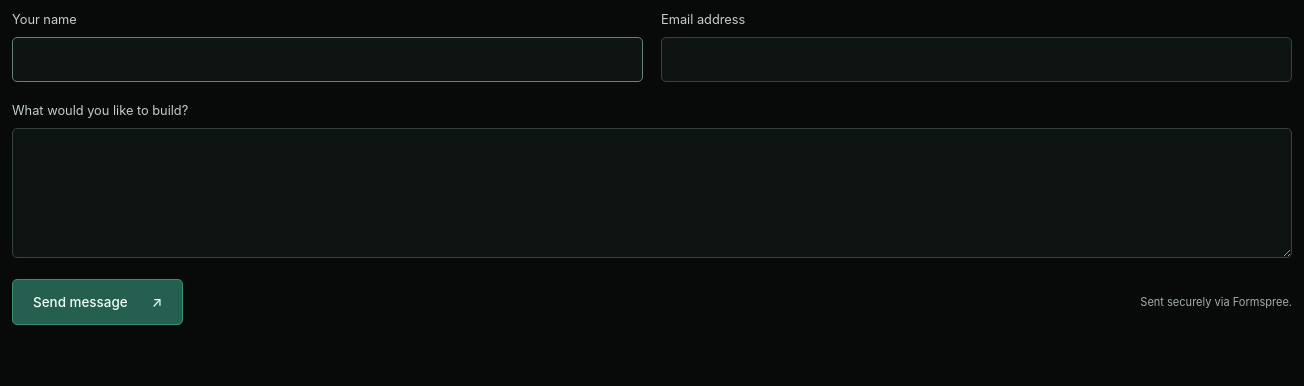
Test: Contact form — all requests mocked › preserves text and offers a direct-email fallback on network failure
Step 1. Type "Test Visitor" into the field labelled "Your name" → (328, 60), box x1=12 y1=37 x2=643 y2=82
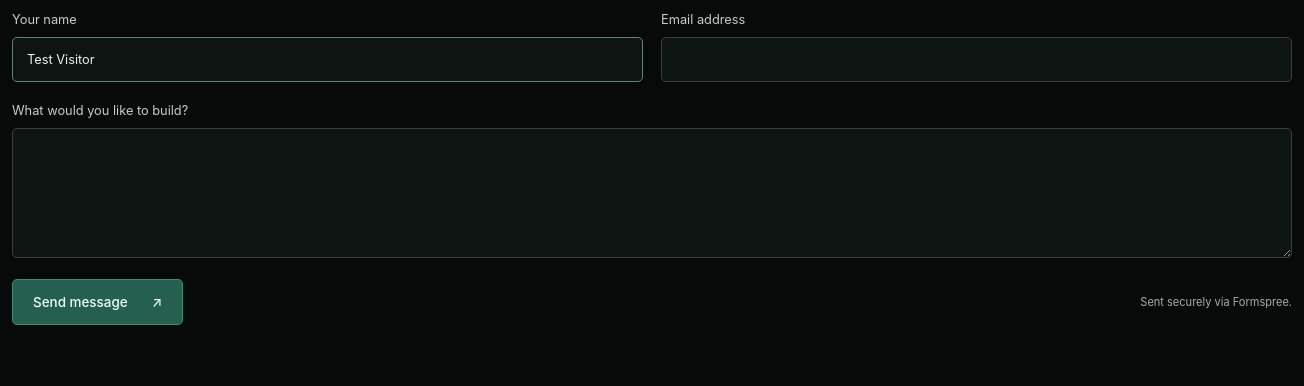
Step 2. Type "visitor@example.com" into the field labelled "Email address" → (976, 60), box x1=661 y1=37 x2=1292 y2=82
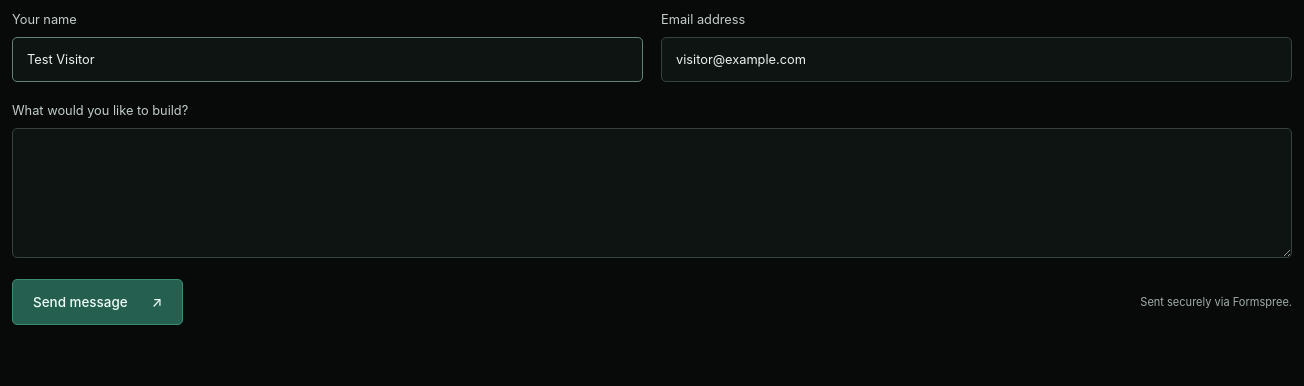
Step 3. Type "A sample enquiry for a mocked test only." into the text box labelled "What would you like to build?" → (652, 193), box x1=12 y1=128 x2=1292 y2=258
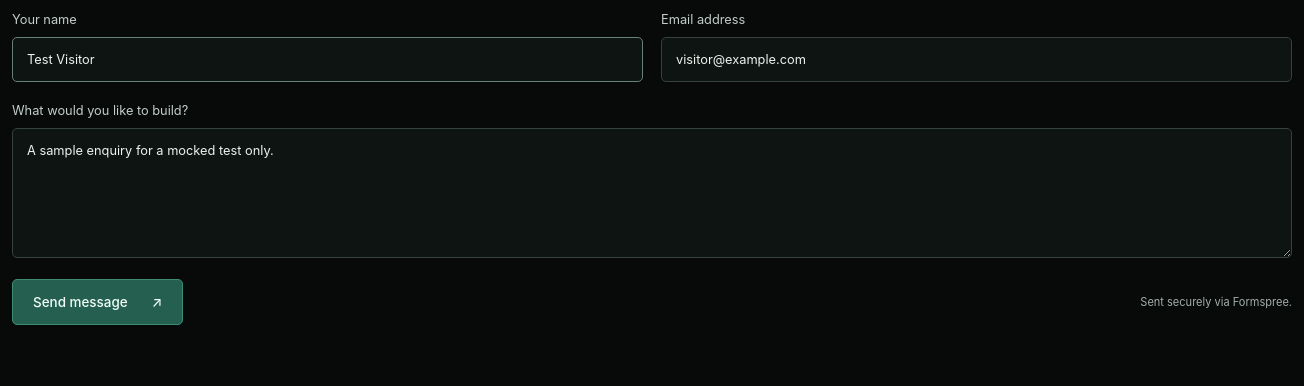
Step 4. Submit the form
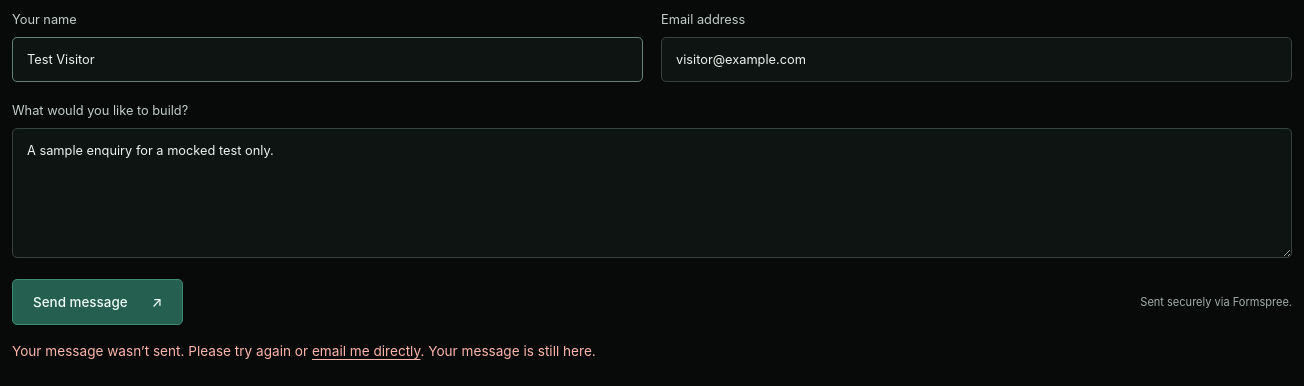
Expected: the button "Send message ↗" is enabled, x1=12 y1=279 x2=183 y2=325
Now the text "Your message wasn’t sent" is shown, box x1=12 y1=343 x2=312 y2=359
